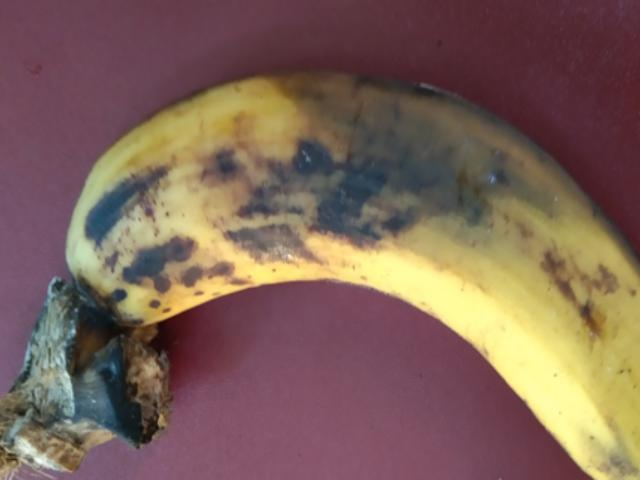overripe: (49, 43, 639, 479)
